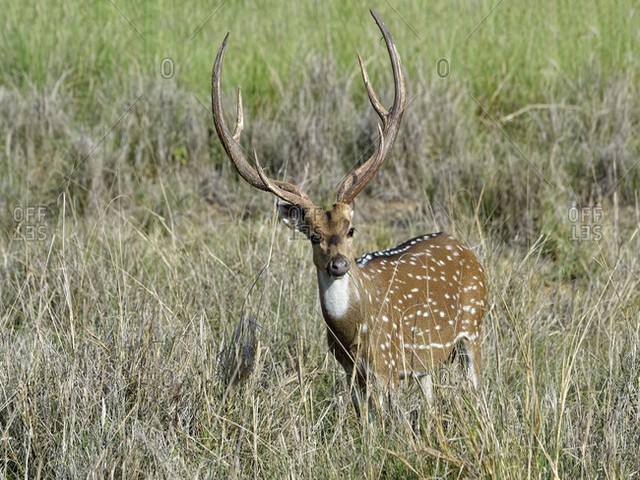deer: (204, 8, 489, 407)
